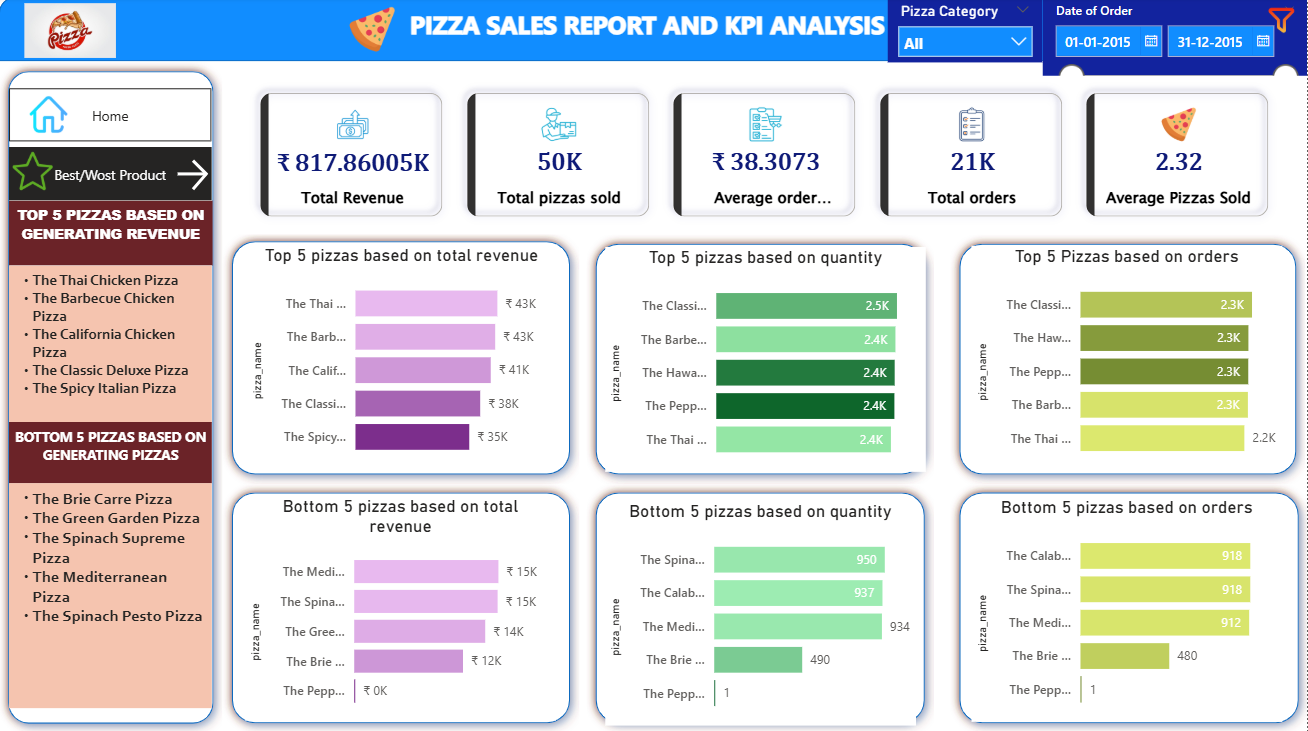

Layout of this report page (visuals, bound fields, positions):
{"tool":"powerbi","page":{"name":"Best/Wost Product","canvas":[1280,720],"ordinal":1},"visuals":[{"type":"shape","box":[0,0,1280,62.9],"z":0},{"type":"shape","box":[218.8,476.2,348.8,243.8],"z":1000},{"type":"shape","box":[575,476.2,340,243.8],"z":2000},{"type":"shape","box":[930,476.2,350,243.8],"z":3000},{"type":"textbox","box":[13.3,6.7,1241.7,51.7],"z":4000},{"type":"shape","box":[0,63.8,218.8,656.2],"z":5000},{"type":"textbox","box":[9.6,199,199,63.1],"z":6000},{"type":"textbox","box":[10,262.5,198.8,153.8],"z":7000},{"type":"textbox","box":[10,416.2,198.8,60],"z":8000},{"type":"textbox","box":[10,476.2,198.8,220],"z":9000},{"type":"pageNavigator","box":[10,88.8,198.8,52.5],"z":10000},{"type":"pageNavigator","box":[10,146.2,198.8,52.5],"z":11000},{"type":"actionButton","box":[168.8,153.8,100,40],"z":12000},{"type":"shape","box":[218.8,230,348.8,246.2],"z":13000},{"type":"shape","box":[575,232.5,340,243.8],"z":14000},{"type":"shape","box":[930,232.5,347.5,243.8],"z":15000},{"type":"clusteredBarChart","title":"Top 5 pizzas based on total revenue","fields":{"Y":["pizzadb pizza_sales.Total Revenue"],"Category":["pizzadb pizza_sales.pizza_name"]},"box":[242.5,242.5,303.8,220],"z":16000},{"type":"clusteredBarChart","title":"Bottom 5 pizzas based on total revenue","fields":{"Category":["pizzadb pizza_sales.pizza_name"],"Y":["pizzadb pizza_sales.Total Revenue"]},"box":[241.2,487.5,303.8,220],"z":17000},{"type":"clusteredBarChart","title":"Top 5 Pizzas based on orders","fields":{"Y":["pizzadb pizza_sales.Total orders"],"Category":["pizzadb pizza_sales.pizza_name"]},"box":[951.2,243.8,303.8,220],"z":18000},{"type":"clusteredBarChart","title":"Top 5 pizzas based on quantity","fields":{"Y":["pizzadb pizza_sales.Total pizzas sold"],"Category":["pizzadb pizza_sales.pizza_name"]},"box":[592.5,245,313.8,220],"z":19000},{"type":"clusteredBarChart","title":"Bottom 5 pizzas based on quantity","fields":{"Category":["pizzadb pizza_sales.pizza_name"],"Y":["pizzadb pizza_sales.Total pizzas sold"]},"box":[592.5,492.5,303.8,220],"z":20000},{"type":"clusteredBarChart","title":"Bottom 5 pizzas based on orders","fields":{"Y":["pizzadb pizza_sales.Total orders"],"Category":["pizzadb pizza_sales.pizza_name"]},"box":[951.2,488.8,303.8,220],"z":21000},{"type":"slicer","fields":{"Values":["pizzadb pizza_sales.pizza_category"]},"box":[870,0,151.2,63.8],"z":22000},{"type":"slicer","fields":{"Values":["pizzadb pizza_sales.order_date"]},"box":[1021.2,0,258.8,97.5],"z":23000},{"type":"cardVisual","fields":{"Data":["pizzadb pizza_sales.Total Revenue","pizzadb pizza_sales.Total pizzas sold","pizzadb pizza_sales.Average order amount","pizzadb pizza_sales.Total orders","pizzadb pizza_sales.Average Pizzas Sold"]},"box":[218.8,77.5,1061.2,155],"z":24000},{"type":"image","box":[337.5,0,55,62.5],"z":25000},{"type":"image","box":[1228.8,0,51.2,45],"z":26000},{"type":"image","box":[25,91.2,48.8,46.2],"z":27000},{"type":"image","box":[8.8,141.2,48.8,56.2],"z":28000},{"type":"image","box":[0,1.2,139.4,63.6],"z":28001}]}

Visuals, with their boxes in screenshot pixels (x1, y1, x2, y2), scaled from the page's 1280x720 canvas onto the 1308x731 screenshot:
shape: [x1=0, y1=0, x2=1307, y2=64]
shape: [x1=224, y1=483, x2=580, y2=730]
shape: [x1=588, y1=483, x2=935, y2=730]
shape: [x1=950, y1=483, x2=1307, y2=730]
textbox: [x1=14, y1=7, x2=1282, y2=59]
shape: [x1=0, y1=65, x2=224, y2=730]
textbox: [x1=10, y1=202, x2=213, y2=266]
textbox: [x1=10, y1=267, x2=213, y2=423]
textbox: [x1=10, y1=423, x2=213, y2=483]
textbox: [x1=10, y1=483, x2=213, y2=707]
pageNavigator: [x1=10, y1=90, x2=213, y2=143]
pageNavigator: [x1=10, y1=148, x2=213, y2=202]
actionButton: [x1=172, y1=156, x2=275, y2=197]
shape: [x1=224, y1=234, x2=580, y2=483]
shape: [x1=588, y1=236, x2=935, y2=484]
shape: [x1=950, y1=236, x2=1305, y2=484]
"Top 5 pizzas based on total revenue" clusteredBarChart: [x1=248, y1=246, x2=558, y2=470]
"Bottom 5 pizzas based on total revenue" clusteredBarChart: [x1=246, y1=495, x2=557, y2=718]
"Top 5 Pizzas based on orders" clusteredBarChart: [x1=972, y1=248, x2=1282, y2=471]
"Top 5 pizzas based on quantity" clusteredBarChart: [x1=605, y1=249, x2=926, y2=472]
"Bottom 5 pizzas based on quantity" clusteredBarChart: [x1=605, y1=500, x2=916, y2=723]
"Bottom 5 pizzas based on orders" clusteredBarChart: [x1=972, y1=496, x2=1282, y2=720]
slicer - pizzadb pizza_sales.pizza_category: [x1=889, y1=0, x2=1044, y2=65]
slicer - pizzadb pizza_sales.order_date: [x1=1044, y1=0, x2=1307, y2=99]
cardVisual - pizzadb pizza_sales.Total Revenue x pizzadb pizza_sales.Total pizzas sold: [x1=224, y1=79, x2=1307, y2=236]
image: [x1=345, y1=0, x2=401, y2=63]
image: [x1=1256, y1=0, x2=1307, y2=46]
image: [x1=26, y1=93, x2=75, y2=139]
image: [x1=9, y1=143, x2=59, y2=200]
image: [x1=0, y1=1, x2=142, y2=66]
